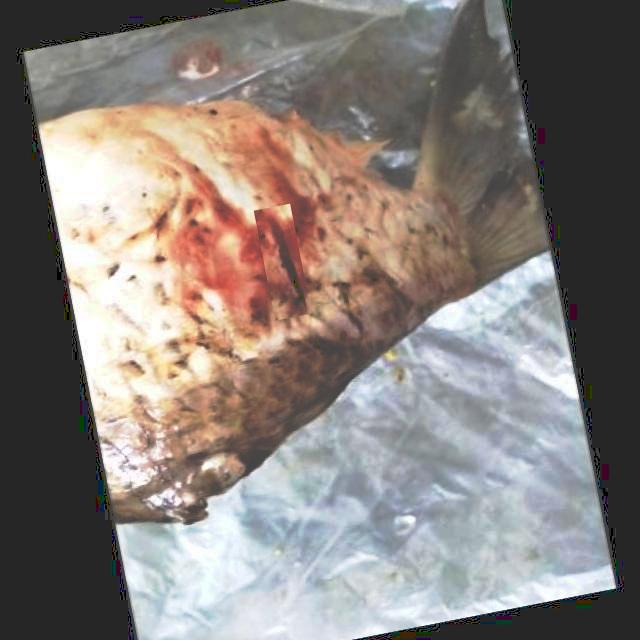Aeromonas Septicemia: (39, 0, 551, 527)
